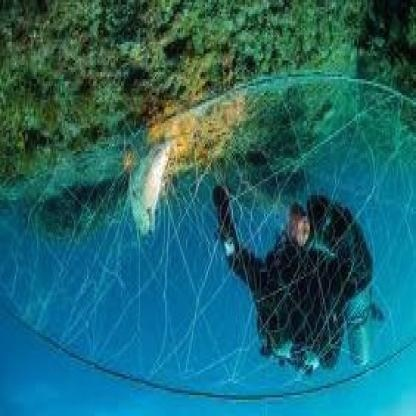net: (12, 76, 416, 400)
